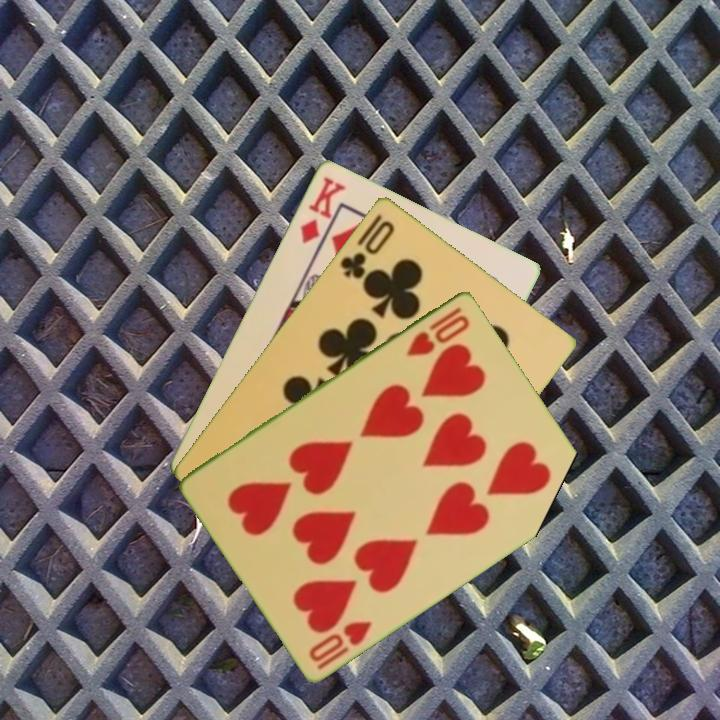10c: (336, 216, 398, 282)
10h: (305, 616, 376, 673), (402, 303, 473, 359)
Kd: (296, 172, 349, 247)
